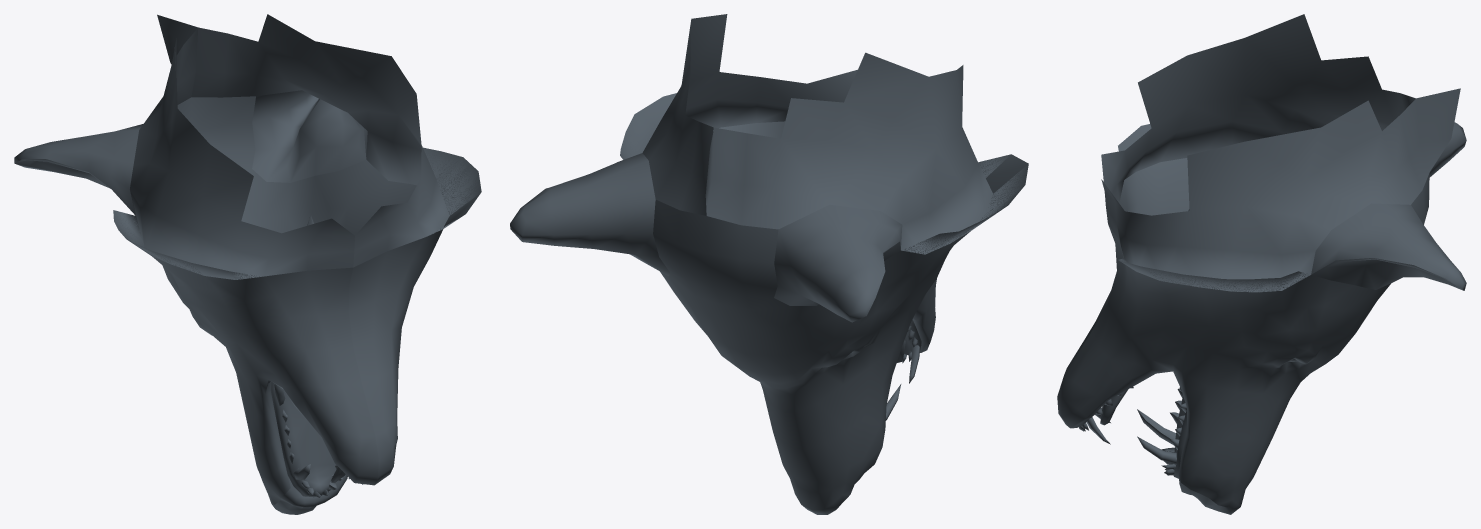
File: WOLF growl.dae
3 renders of one model, left to right at view 1: azimuth 30°, elevation 25°; view 2: azimuth 150°, elevation 25°; view 3: azimuth 270°, elevation 25°, orthographic. The views are drawn at different scales.
Visible parts, largest first — view 1: WolfREDUCED; view 2: WolfREDUCED; view 3: WolfREDUCED.
Boxes of the visible parts, x1,y1,x2,y2 form: WolfREDUCED: (14, 14, 481, 514); WolfREDUCED: (510, 14, 1028, 514); WolfREDUCED: (1057, 14, 1466, 514).
Size of the model in its own units: 2211 by 2344 by 2905.
Materials: 1 (1 with a texture image).
